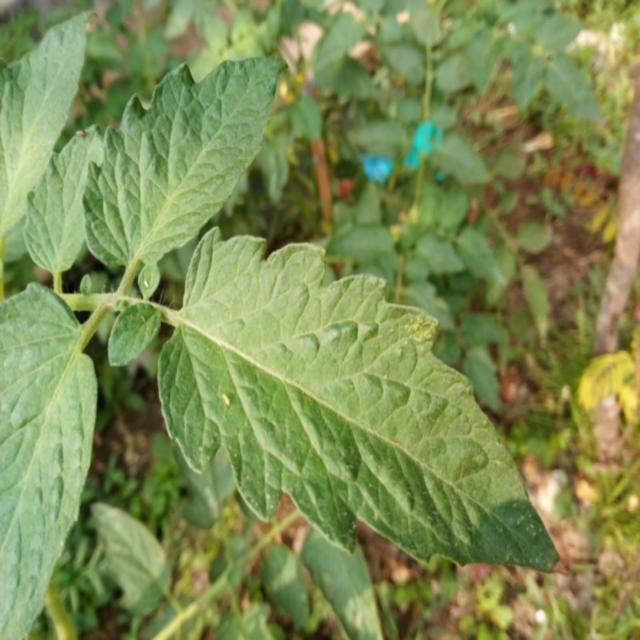Healthy: (119, 210, 627, 614), (41, 1, 314, 298), (0, 284, 96, 639)
